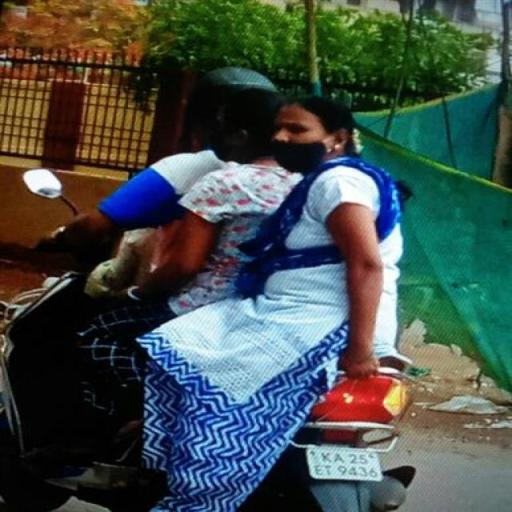tripple riding: (16, 64, 434, 318)
